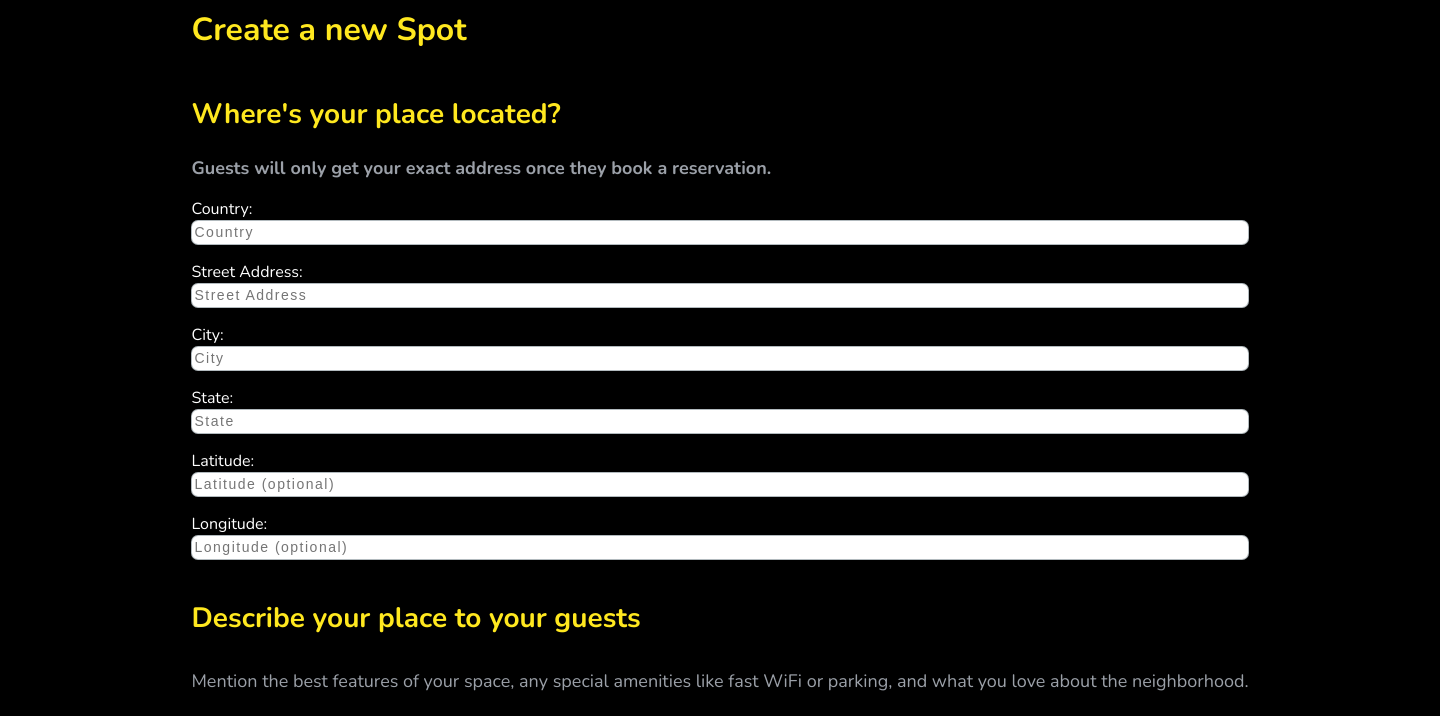
Test: CreateSpot › coordinate and price fields accept negatives and decimals but not letters
The image size is (1440, 716).
Type "-33.87" into the field with placeholder "Latitude (optional)" at (720, 484), box [192,472,1248,497]
(page scrolled)
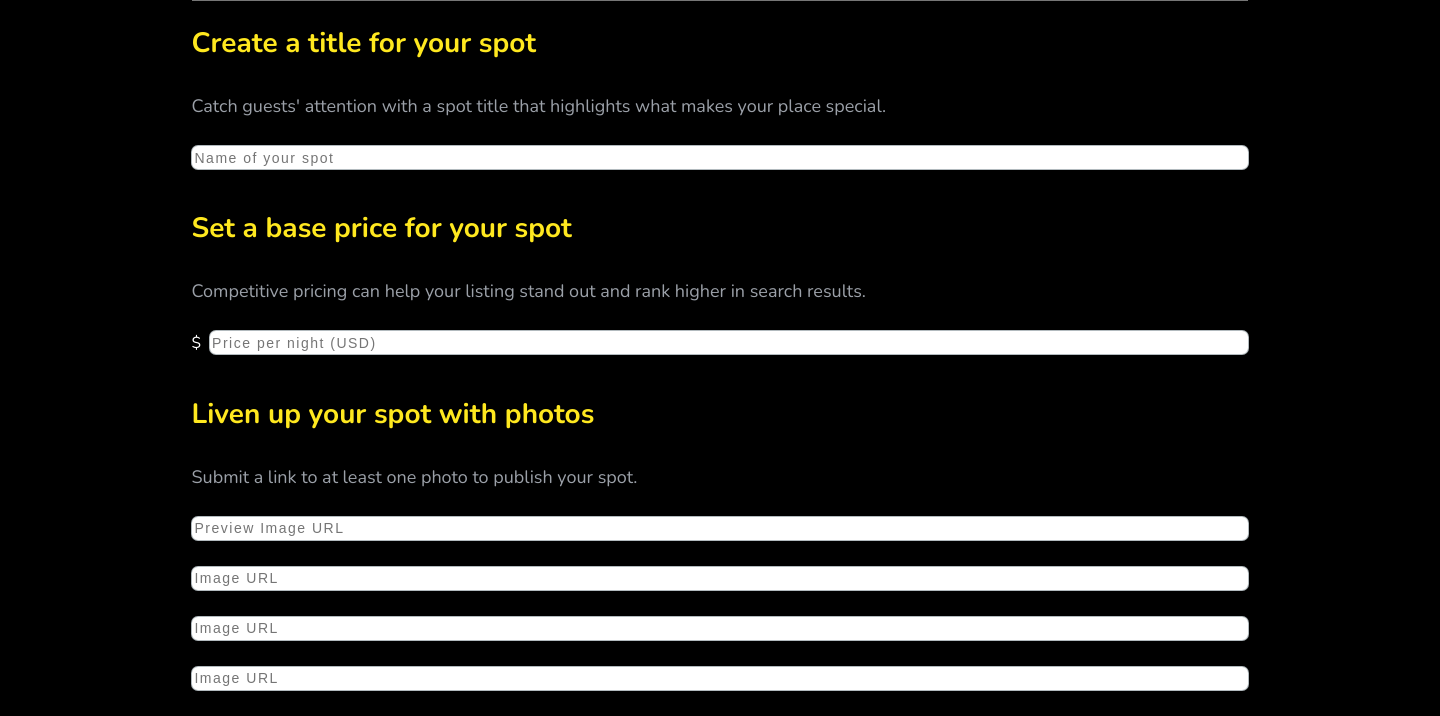
Type "99.999abc" into the field with placeholder "Price per night (USD)" at (729, 343), box [209,330,1248,355]
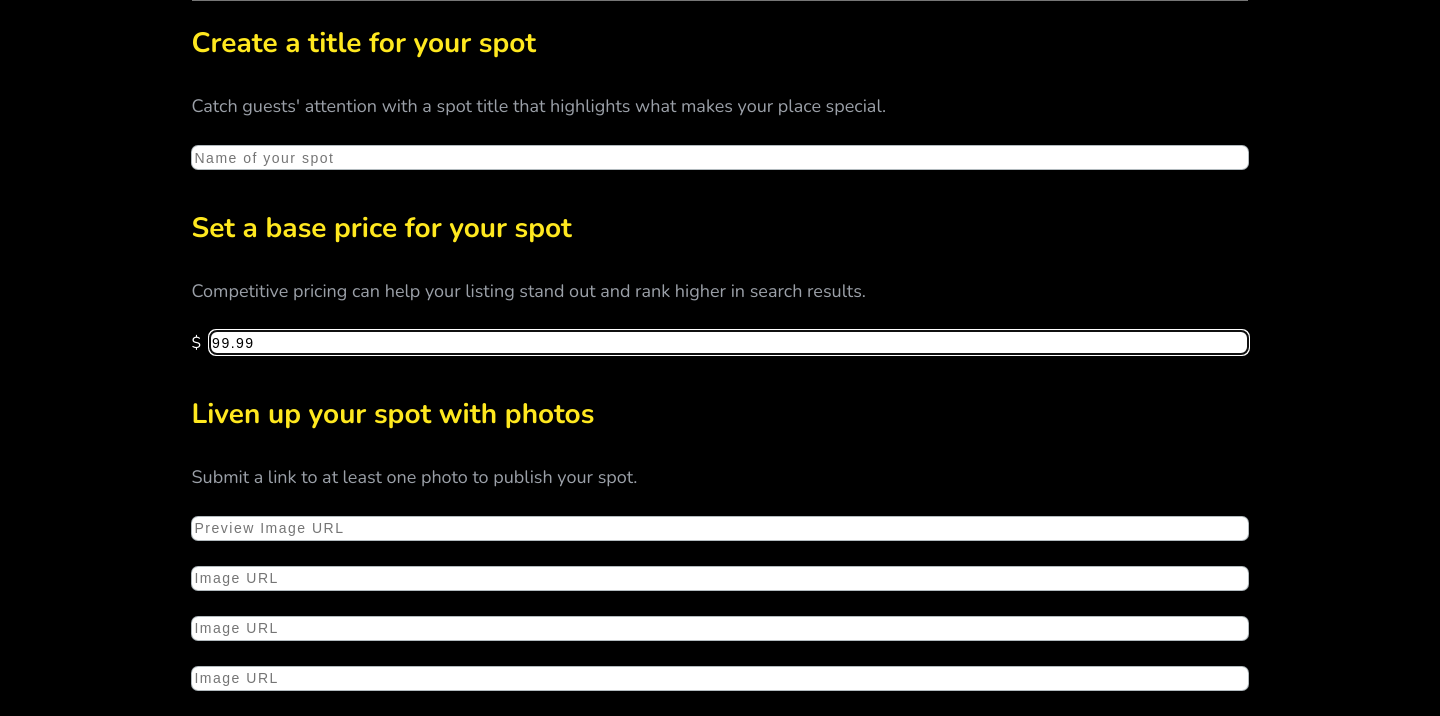
Now the field with placeholder "Price per night (USD)" holds "99.99", box [209,330,1248,355]
